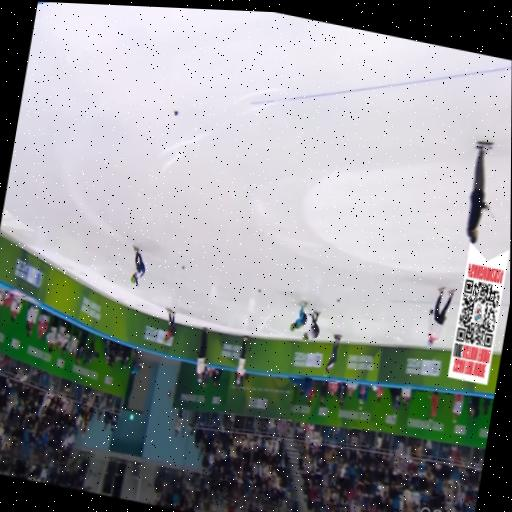Skater: (160, 306, 180, 346), (131, 246, 145, 284), (303, 312, 320, 341), (291, 303, 307, 330)
